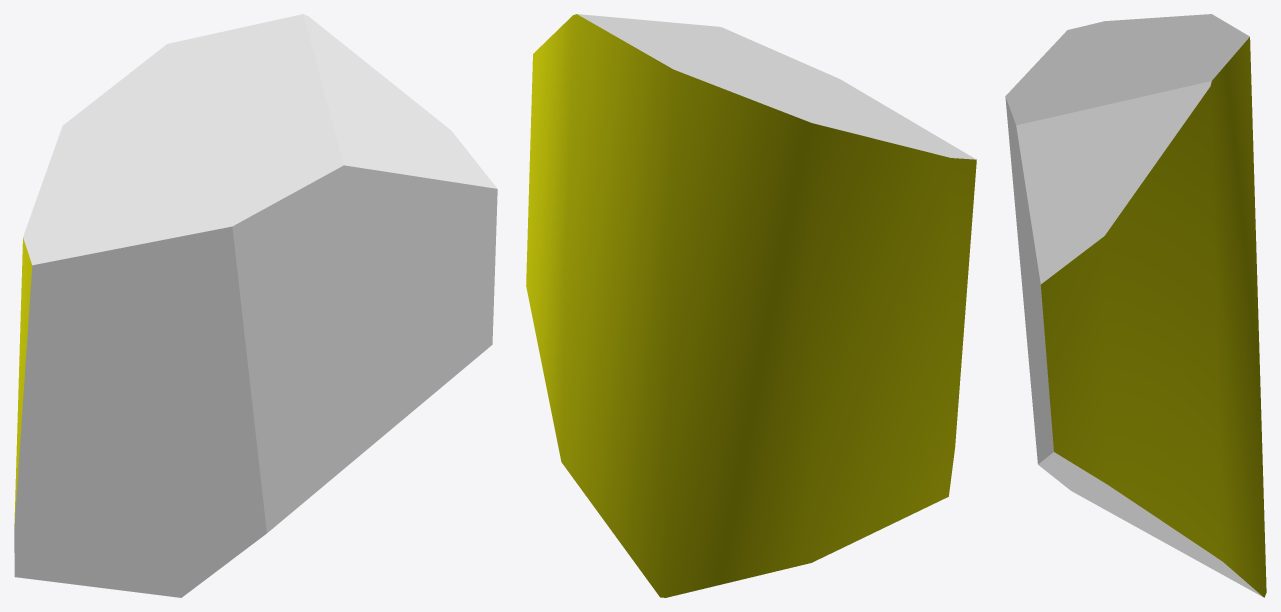
Rendered from mdl_ciudadela_casa_pilar1_fracturepart15.fbx.
3 views of the same model, side by side, from view 1: azimuth 30°, elevation 25°; view 2: azimuth 150°, elevation 25°; view 3: azimuth 270°, elevation 25° (orthographic). The views are drawn at different scales.
Visible parts, largest first — view 1: mdl_ciudadela_casa_pilar1_fracturepart15; view 2: mdl_ciudadela_casa_pilar1_fracturepart15; view 3: mdl_ciudadela_casa_pilar1_fracturepart15.
Boxes of the visible parts, x1=… form: mdl_ciudadela_casa_pilar1_fracturepart15: x1=14, y1=14, x2=497, y2=597; mdl_ciudadela_casa_pilar1_fracturepart15: x1=526, y1=14, x2=976, y2=597; mdl_ciudadela_casa_pilar1_fracturepart15: x1=1005, y1=14, x2=1266, y2=597.
Bounding box in the file's own units: 0.6709 × 0.781 × 0.3226.
